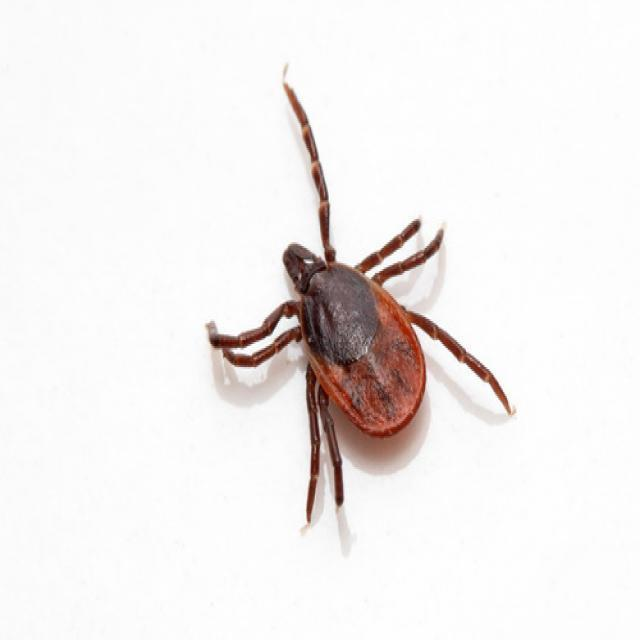Ixodes Ricinus-F: (206, 86, 515, 529)
